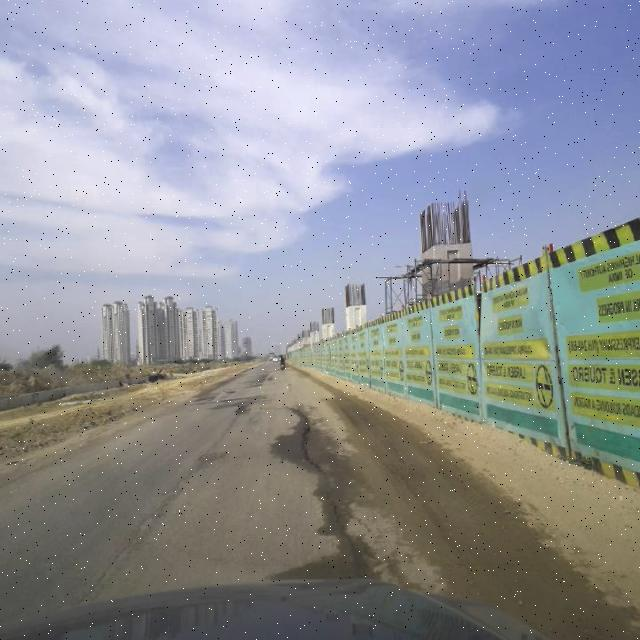D00: (102, 433, 226, 578), (288, 401, 385, 568)
D40: (285, 395, 434, 574), (232, 393, 256, 419)
